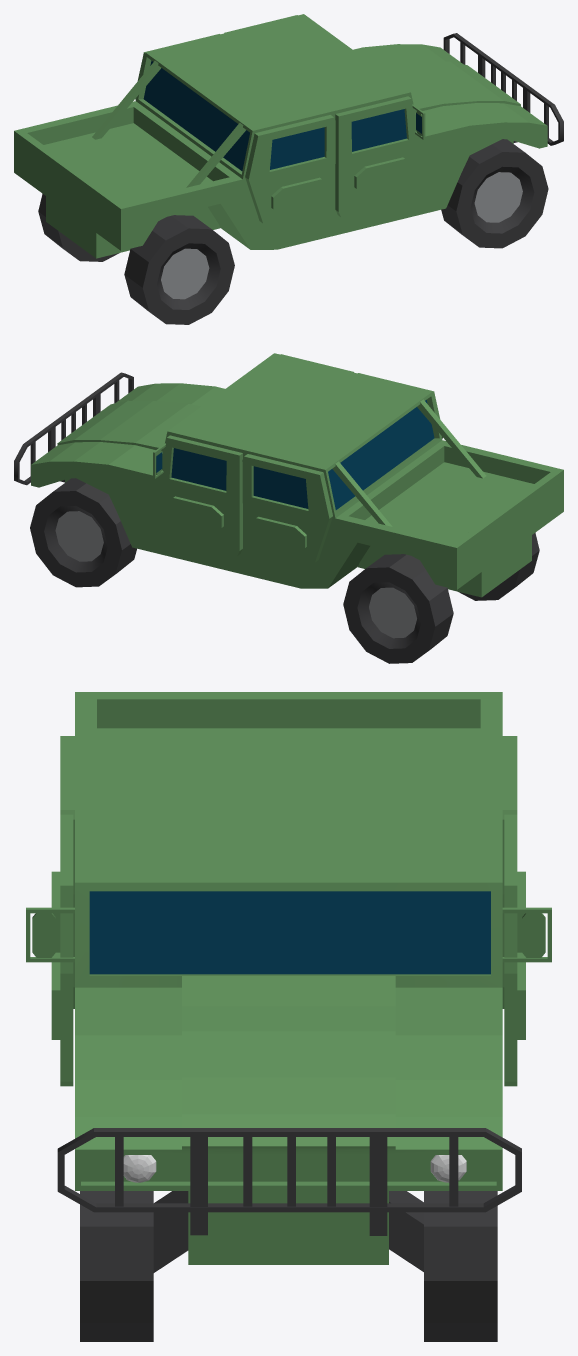
Rendered from Humvee 2.fbx.
3 views of the same model, one above another, from view 1: azimuth 30°, elevation 25°; view 2: azimuth 150°, elevation 25°; view 3: azimuth 270°, elevation 25° (orthographic). The views are drawn at different scales.
Parts seen in each view (by area): view 1: Humvee_without_Back; view 2: Humvee_without_Back; view 3: Humvee_without_Back.
Boxes of the visible parts, <box> form: Humvee_without_Back: <box>14,14,563,324</box>; Humvee_without_Back: <box>14,353,563,663</box>; Humvee_without_Back: <box>26,692,551,1341</box>.
Bounding box in the file's own units: 600 × 235 × 312.
